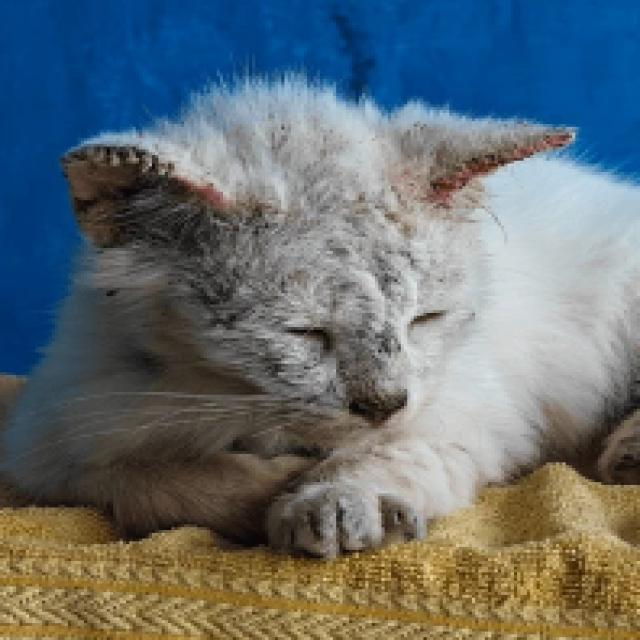Mange: (430, 124, 585, 197), (63, 136, 183, 182), (371, 324, 414, 359)
